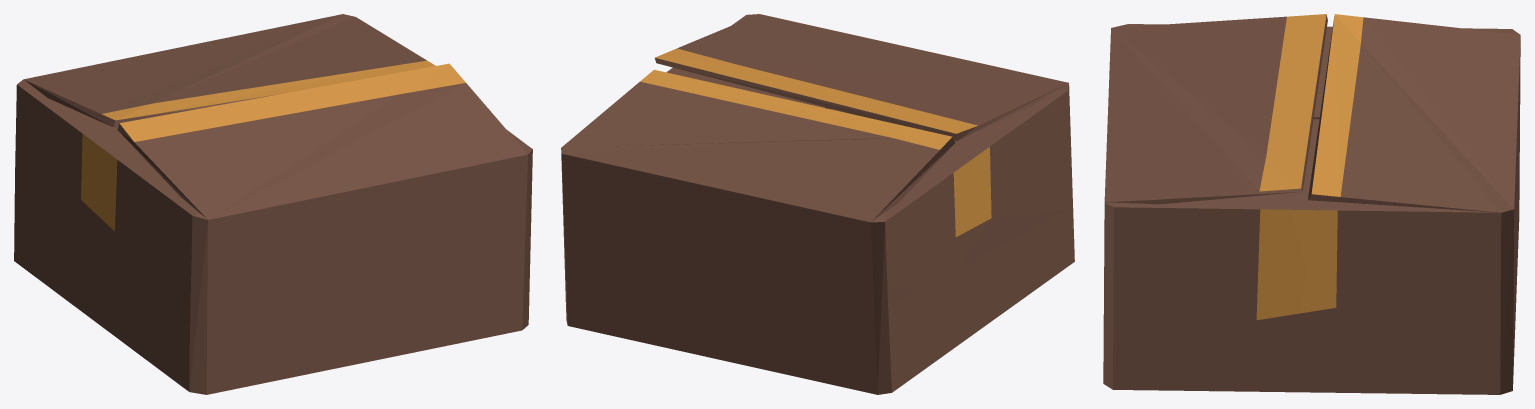
Rendered from box-by-nick-slough-16F8j2EpWS.glb.
3 views of the same model, side by side, from view 1: azimuth 30°, elevation 25°; view 2: azimuth 150°, elevation 25°; view 3: azimuth 270°, elevation 25° (orthographic). The views are drawn at different scales.
Visible parts, largest first — view 1: Box; view 2: Box; view 3: Box.
Part boxes in pixels (left/top/right/bottom): Box: left=14, top=14, right=532, bottom=394; Box: left=561, top=14, right=1074, bottom=394; Box: left=1103, top=14, right=1520, bottom=394.
Bounding box in the file's own units: 0.2792 × 0.1595 × 0.2763.
